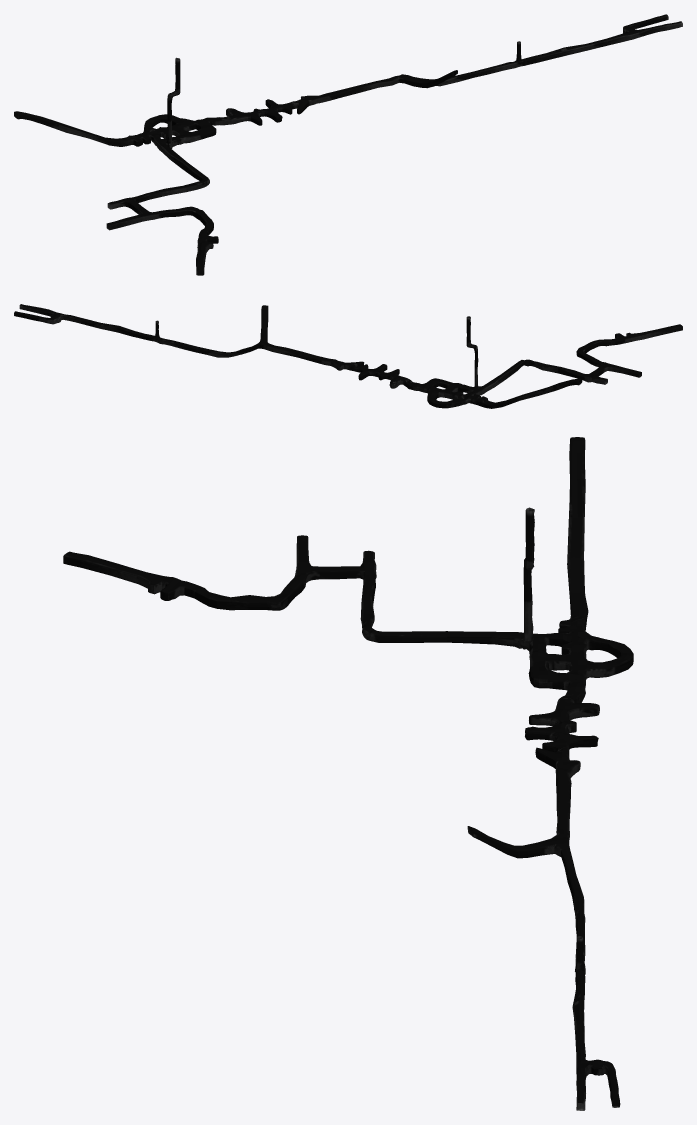
File: data_2.0.0.glb
3 views of the same model, one above another, from view 1: azimuth 30°, elevation 25°; view 2: azimuth 150°, elevation 25°; view 3: azimuth 270°, elevation 25° (orthographic). The views are drawn at different scales.
Parts seen in each view (by area): view 1: Cube.040; view 2: Cube.040; view 3: Cube.040.
Boxes of the visible parts, x1=… form: Cube.040: x1=14, y1=14, x2=682, y2=275; Cube.040: x1=14, y1=304, x2=682, y2=408; Cube.040: x1=63, y1=437, x2=633, y2=1110.
Bounding box in the file's own units: 303 × 46.01 × 134.
Materials: 1 (1 with a texture image).
